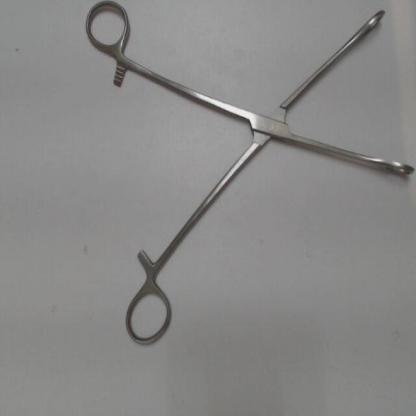Sponge Forceps: (82, 1, 414, 354)
